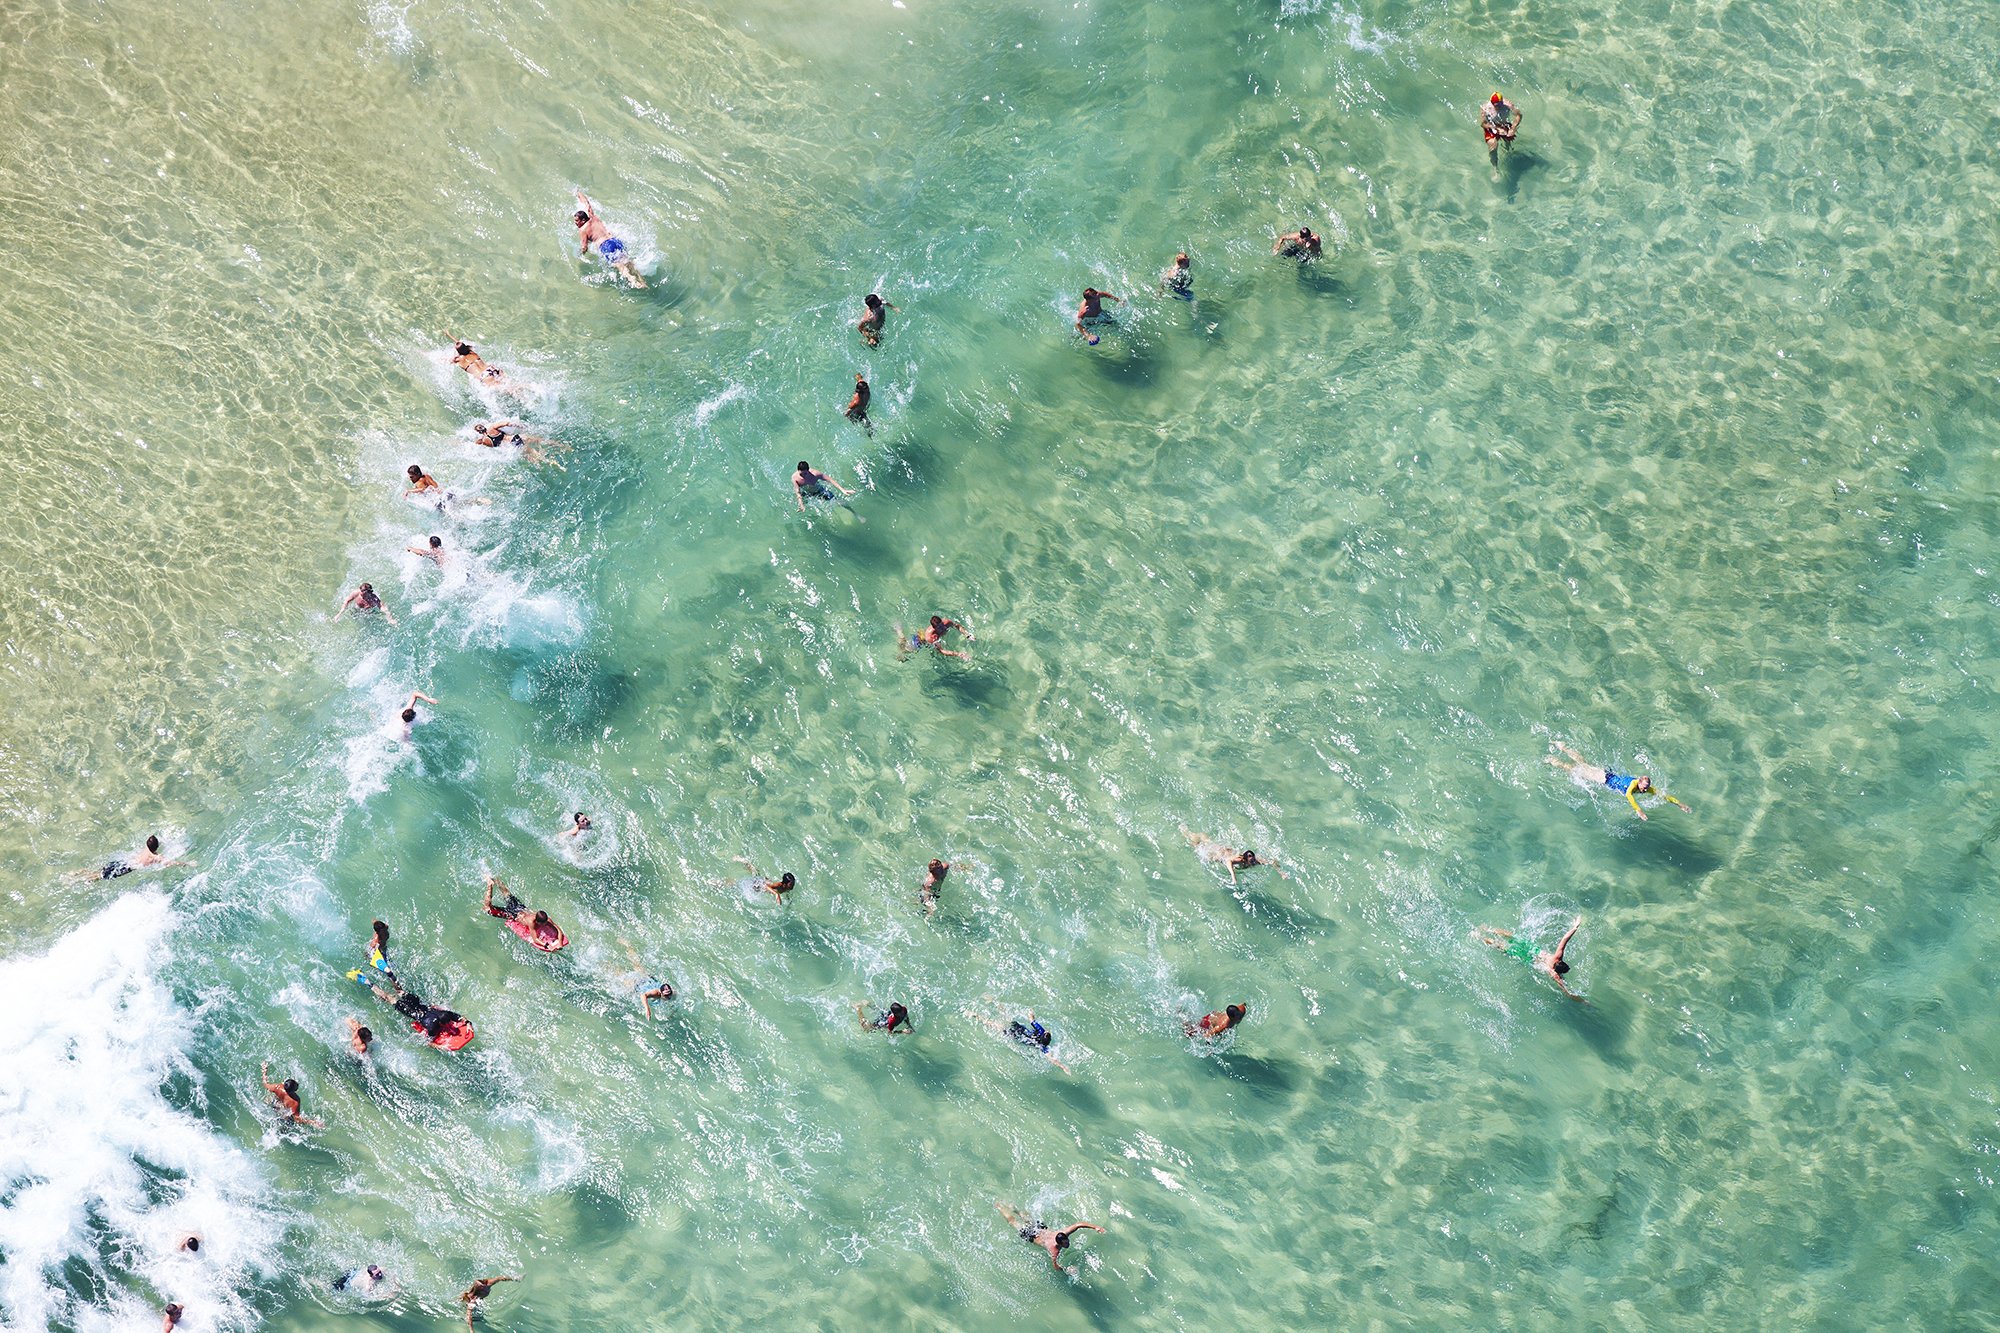people: (345, 946, 475, 1052), (1467, 913, 1601, 1012), (1540, 739, 1693, 823), (417, 327, 551, 413), (961, 993, 1073, 1076), (994, 1199, 1107, 1276), (569, 187, 651, 291), (1176, 818, 1291, 888), (481, 872, 570, 953), (59, 834, 199, 885), (597, 936, 678, 1022), (447, 420, 574, 473), (790, 459, 868, 527), (400, 464, 494, 519), (259, 1059, 328, 1131), (708, 854, 797, 907), (452, 1272, 527, 1333), (1478, 89, 1524, 185), (892, 615, 976, 664), (404, 535, 484, 583), (918, 858, 976, 922), (1173, 1000, 1251, 1048), (1073, 286, 1128, 348), (331, 582, 399, 626), (1271, 226, 1325, 279), (856, 292, 902, 352), (850, 998, 917, 1037), (843, 372, 880, 440), (331, 1263, 399, 1301), (397, 689, 439, 744), (1156, 251, 1199, 304), (364, 918, 391, 967), (555, 810, 596, 840), (343, 1015, 374, 1053), (174, 1229, 205, 1256), (159, 1302, 185, 1333)
